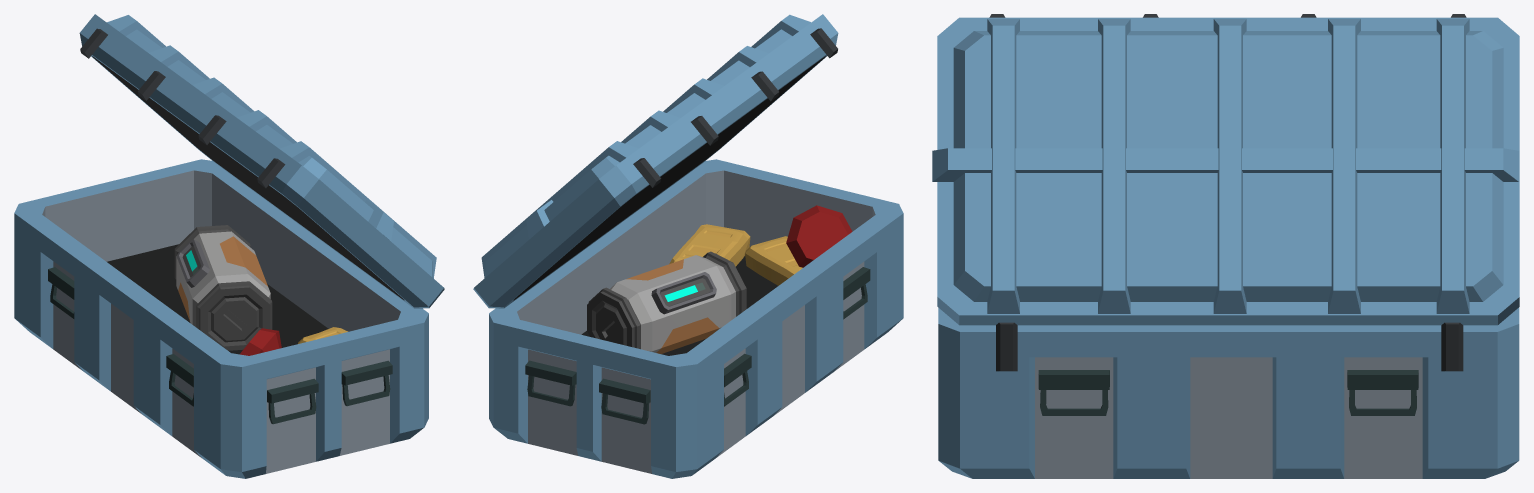
File: MetaChestAchivementsBlue.fbx
3 views of the same model, side by side, from view 1: azimuth 30°, elevation 25°; view 2: azimuth 150°, elevation 25°; view 3: azimuth 270°, elevation 25° (orthographic). The views are drawn at different scales.
Parts seen in each view (by area): view 1: MetaChestAchivementsBlue, SM_Prop_Crate_Plastic_Lid_01, SM_Prop_Cylinder_02, SM_Item_Gem_02; view 2: MetaChestAchivementsBlue, SM_Prop_Crate_Plastic_Lid_01, SM_Prop_Cylinder_02, SM_Item_Gem_02, SM_Prop_Gold_Ingot_01 (43), SM_Prop_Gold_Ingot_01 (42); view 3: SM_Prop_Crate_Plastic_Lid_01, MetaChestAchivementsBlue.
Part boxes in pixels (<box>): MetaChestAchivementsBlue: <box>14,159,428,478</box>; SM_Prop_Crate_Plastic_Lid_01: <box>79,14,444,308</box>; SM_Prop_Cylinder_02: <box>174,225,272,350</box>; SM_Item_Gem_02: <box>239,328,281,355</box>; MetaChestAchivementsBlue: <box>489,159,903,478</box>; SM_Prop_Crate_Plastic_Lid_01: <box>473,14,838,308</box>; SM_Prop_Cylinder_02: <box>587,251,746,353</box>; SM_Item_Gem_02: <box>786,205,852,267</box>; SM_Prop_Gold_Ingot_01 (43): <box>669,224,750,266</box>; SM_Prop_Gold_Ingot_01 (42): <box>745,236,802,285</box>; SM_Prop_Crate_Plastic_Lid_01: <box>932,14,1519,325</box>; MetaChestAchivementsBlue: <box>938,307,1519,478</box>.
Bounding box in the file's own units: 0.852 × 1.07 × 1.46.
Materials: 4 (4 with a texture image).
